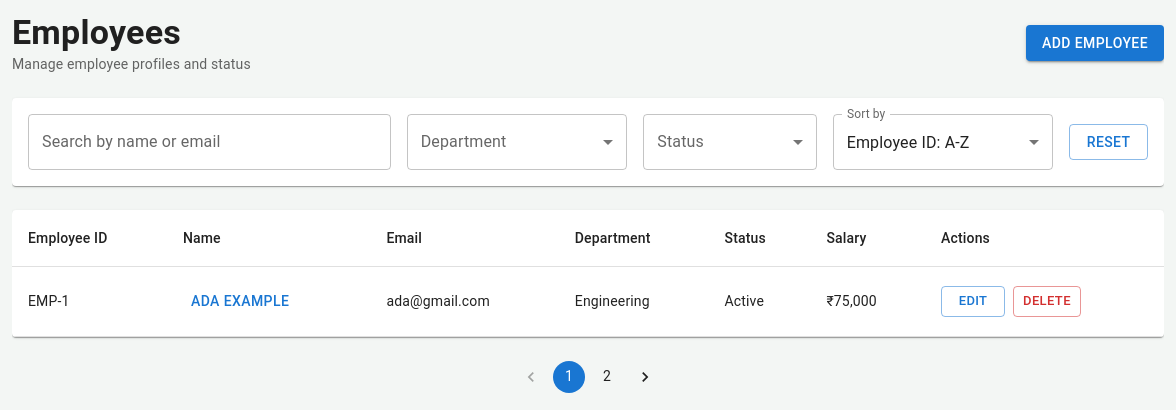
Test: EmployeesPage › requests and displays the selected server-side page
Expected: the button "Ada Example" is shown, x1=183 y1=283 x2=297 y2=320
What coordinates should you click on to do the following:
click the button named "Go to page 2"
I would click on:
 (607, 376)
Its box is x1=591 y1=360 x2=623 y2=392.
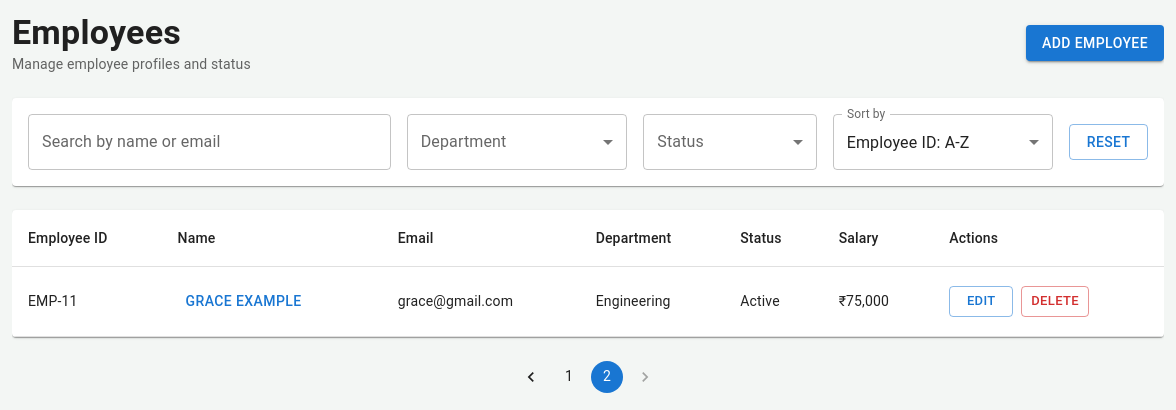
Expected: the button "Grace Example" is shown, x1=178 y1=283 x2=310 y2=320
